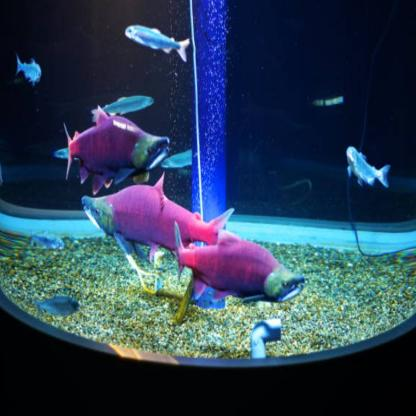sockeye: (82, 179, 236, 246), (179, 235, 303, 308), (59, 105, 171, 178)
